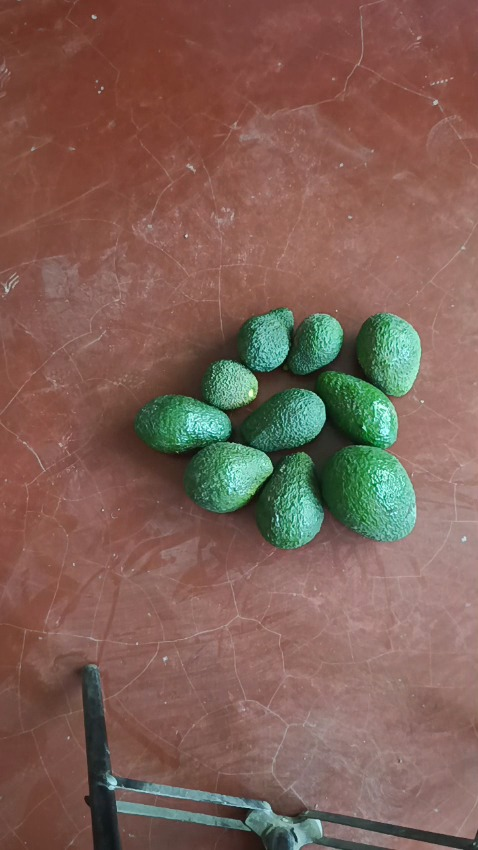Primera: (318, 443, 417, 540)
Segunda: (254, 453, 324, 547), (314, 370, 398, 448), (184, 441, 274, 513), (134, 395, 231, 454), (239, 388, 326, 453), (355, 312, 422, 395)
Tercera: (236, 307, 295, 373), (285, 313, 344, 377), (200, 359, 259, 411)
